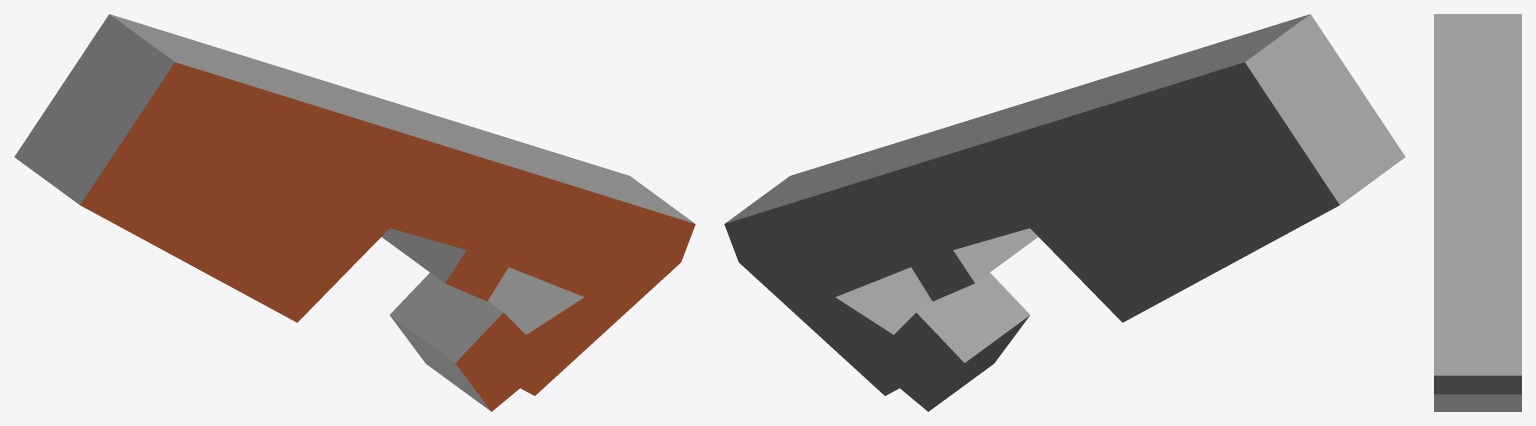
The model's file is construction_4507_assumed_A_Casa_h6m.obj.
The picture shows the model from 3 angles, left to right: view 1: azimuth 30°, elevation 25°; view 2: azimuth 150°, elevation 25°; view 3: azimuth 270°, elevation 25°; orthographic projection. The views are drawn at different scales.
Visible parts, largest first — view 1: construction_4507_assumed_A_Casa; view 2: construction_4507_assumed_A_Casa; view 3: construction_4507_assumed_A_Casa.
Part boxes in pixels (<box>): construction_4507_assumed_A_Casa: <box>14,14,695,411</box>; construction_4507_assumed_A_Casa: <box>724,14,1405,411</box>; construction_4507_assumed_A_Casa: <box>1434,14,1521,411</box>.
Size of the model in its own units: 32.41 by 21.48 by 6.
